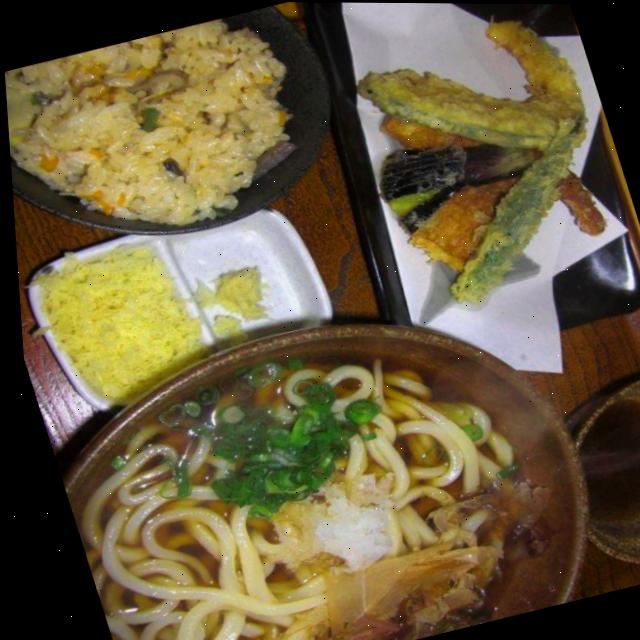米饭主食: (0, 0, 366, 285)
蔬菜料理: (322, 2, 640, 340)
面条主食: (20, 252, 620, 640)
